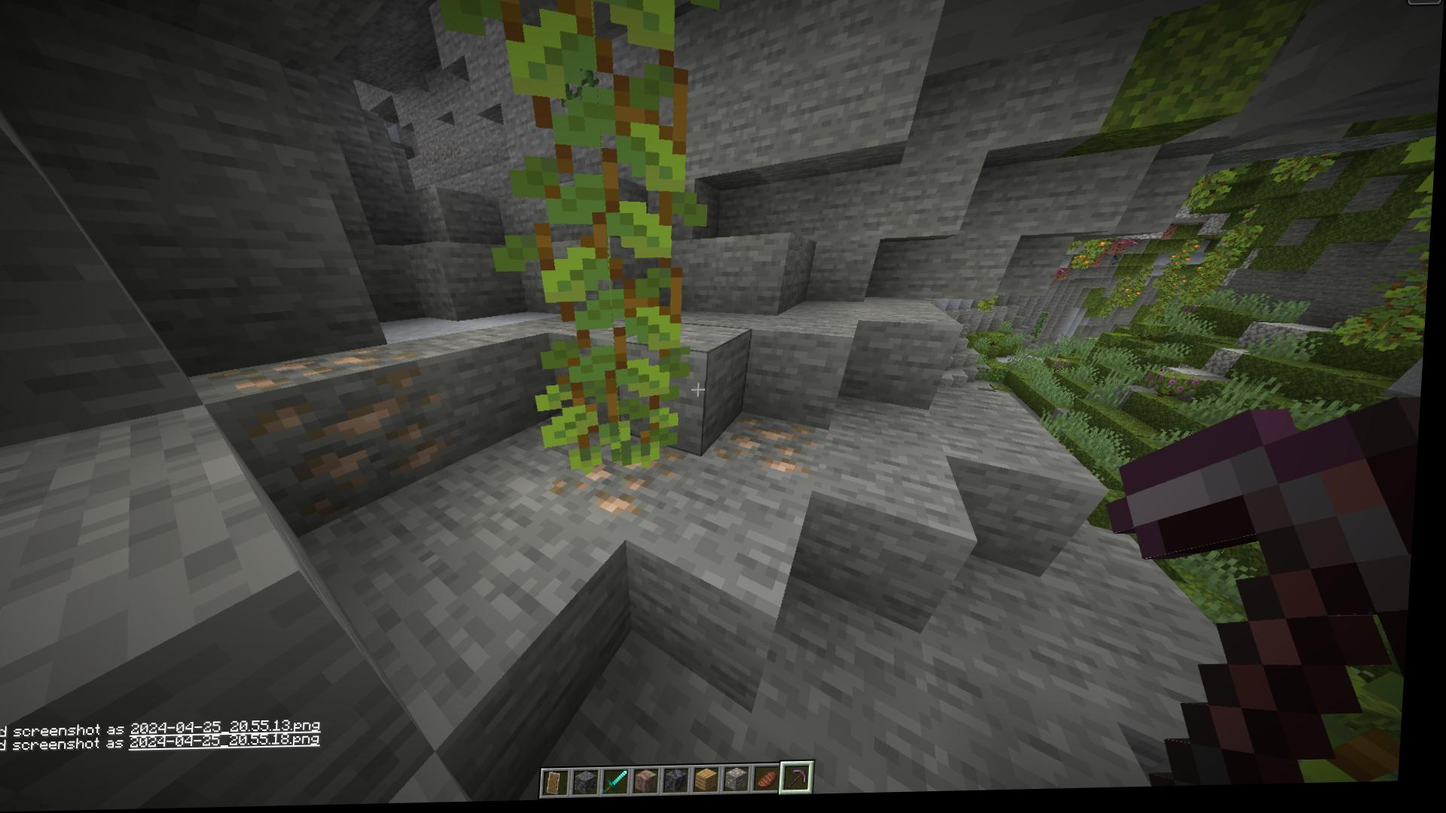iron ore: (222, 349, 444, 512), (572, 436, 682, 525), (715, 411, 827, 483)
